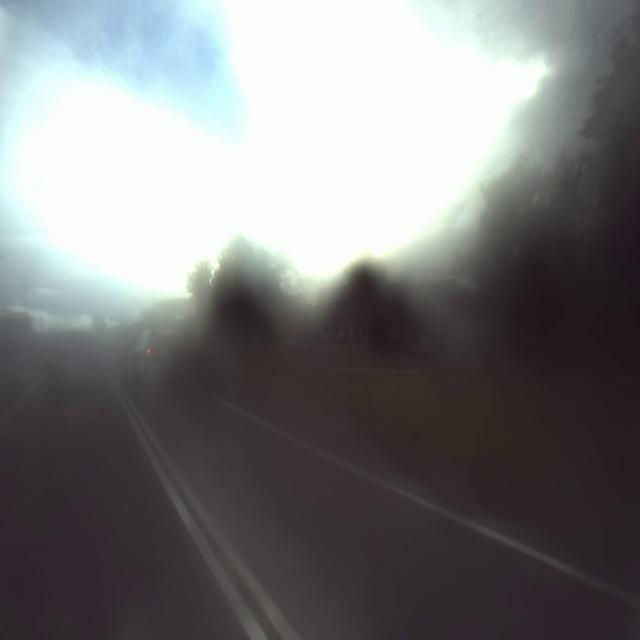car: (125, 315, 192, 403)
